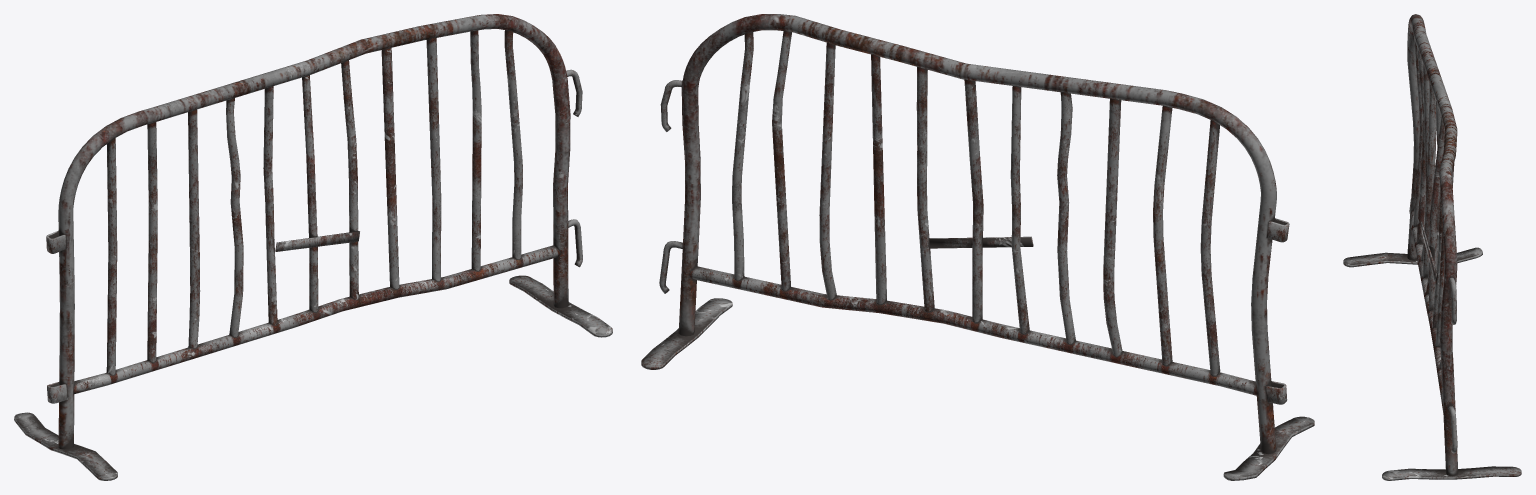
File: street_metal_barrier_damaged1.fbx
3 views of the same model, side by side, from view 1: azimuth 30°, elevation 25°; view 2: azimuth 150°, elevation 25°; view 3: azimuth 270°, elevation 25° (orthographic). The views are drawn at different scales.
Parts seen in each view (by area): view 1: street_metal_barrier_damaged1; view 2: street_metal_barrier_damaged1; view 3: street_metal_barrier_damaged1.
Part boxes in pixels (box(x1,y1,x2,y2)): street_metal_barrier_damaged1: box(14, 14, 612, 480); street_metal_barrier_damaged1: box(641, 14, 1314, 480); street_metal_barrier_damaged1: box(1343, 14, 1521, 480).
Bounding box in the file's own units: 4.31 × 2.34 × 1.4.
Materials: 1 (1 with a texture image).
